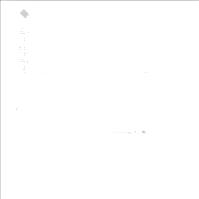bottle: (10, 69, 196, 134)
